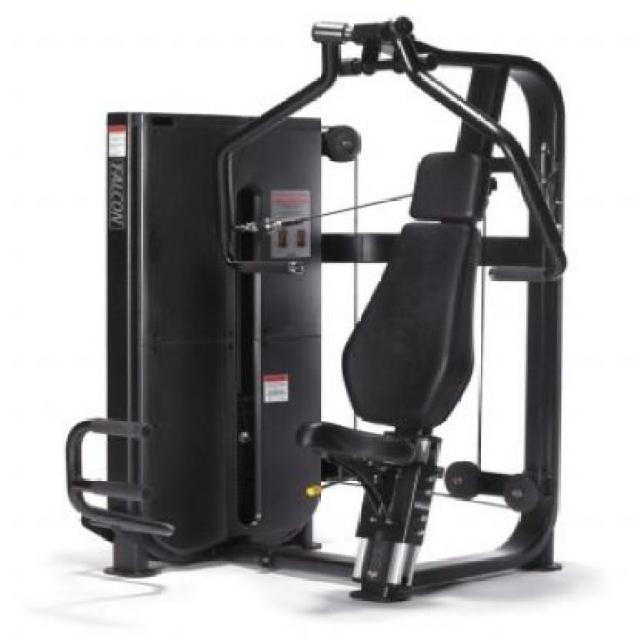Chest Press machine: (60, 15, 575, 612)
